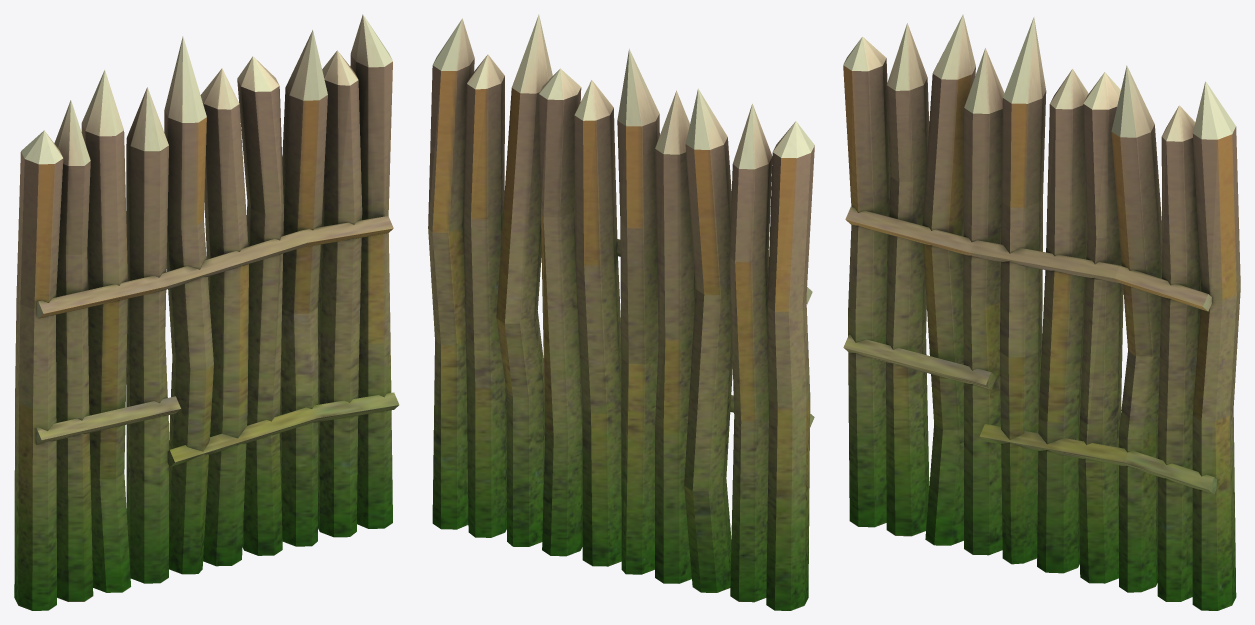
The model's file is Fence.FBX.
3 views of the same model, side by side, from view 1: azimuth 30°, elevation 25°; view 2: azimuth 150°, elevation 25°; view 3: azimuth 330°, elevation 25° (orthographic). The views are drawn at different scales.
Parts seen in each view (by area): view 1: fence_019; view 2: fence_019; view 3: fence_019.
Boxes of the visible parts, box(x1,y1,x2,y2) form: fence_019: box(14, 14, 399, 610); fence_019: box(428, 14, 814, 610); fence_019: box(843, 14, 1240, 610).
Size of the model in its own units: 200 by 270 by 37.59.
1 material, 1 textured.
